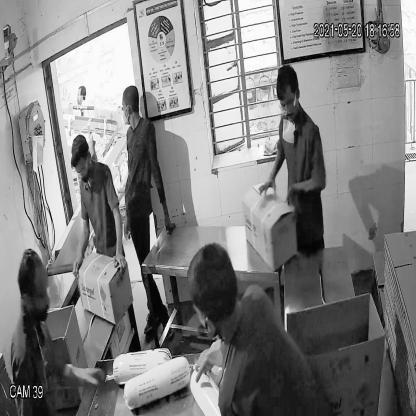goggles: (274, 96, 304, 118)
